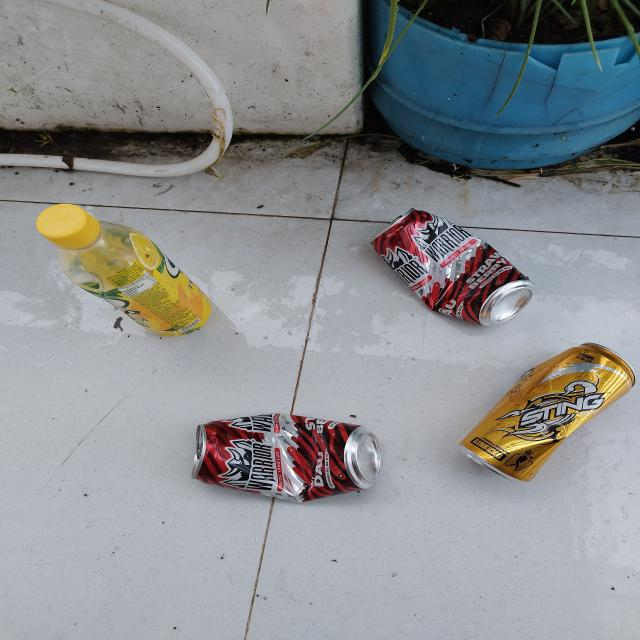bottle: (34, 204, 210, 338)
can: (458, 342, 636, 484), (369, 207, 536, 327), (192, 412, 382, 503)
